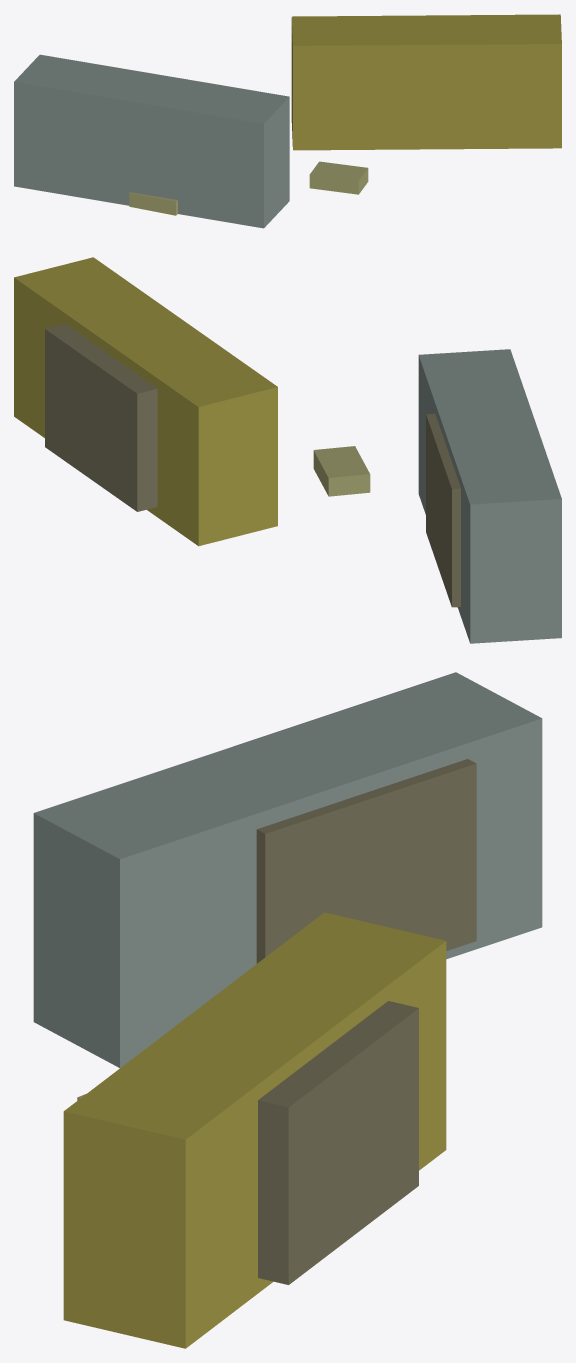
Rendered from SM_BarricadaCivil_v0_Coches_e3_Brecha_LOD1.fbx.
The picture shows the model from 3 angles, top to bottom: view 1: azimuth 30°, elevation 25°; view 2: azimuth 150°, elevation 25°; view 3: azimuth 270°, elevation 25°; orthographic projection. The views are drawn at different scales.
Visible parts, largest first — view 1: SM_barricada_civil_v3_LOD1; view 2: SM_barricada_civil_v3_LOD1; view 3: SM_barricada_civil_v3_LOD1.
Part boxes in pixels (x1=…): SM_barricada_civil_v3_LOD1: x1=14, y1=14, x2=561, y2=228; SM_barricada_civil_v3_LOD1: x1=14, y1=257, x2=561, y2=643; SM_barricada_civil_v3_LOD1: x1=33, y1=672, x2=542, y2=1348.
Bounding box in the file's own units: 8.64 × 1.8 × 3.97.
